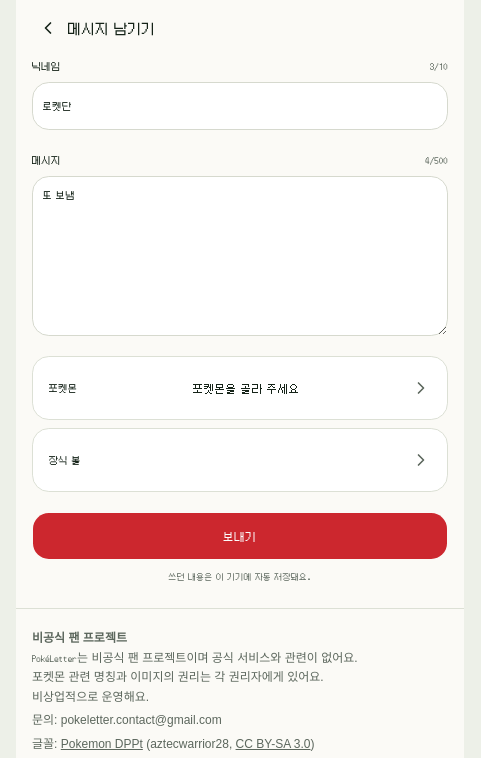
it: WritePage › 너무 자주 보내면 남은 시간을 안내하고 쓰던 내용을 남긴다
Click the button "보내기": [240, 536] box left=32, top=512, right=448, bottom=560
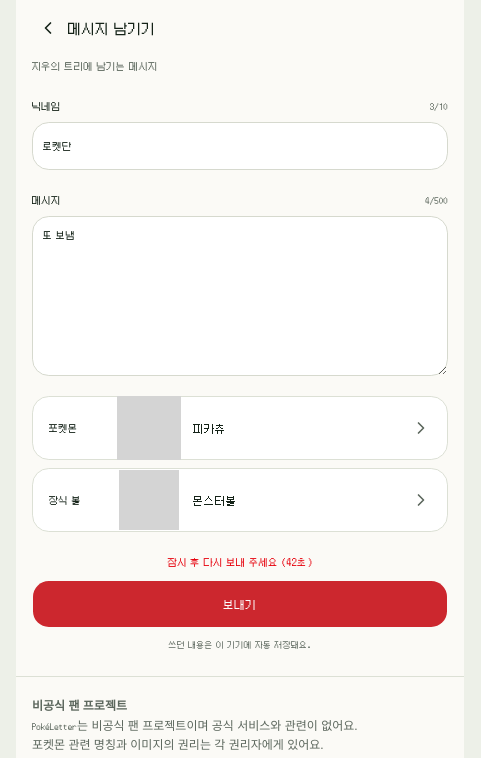
Expected: the text box labelled "메시지" holds "또 보냄", left=32, top=216, right=448, bottom=376
Result: the message reads "잠시 후 다시 보내 주세요 (42초)" at left=168, top=555, right=312, bottom=569
